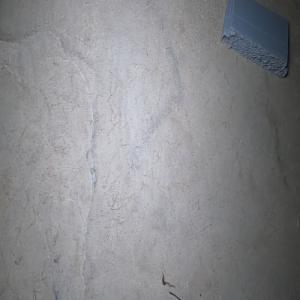PlasticPart: (219, 0, 289, 78)
